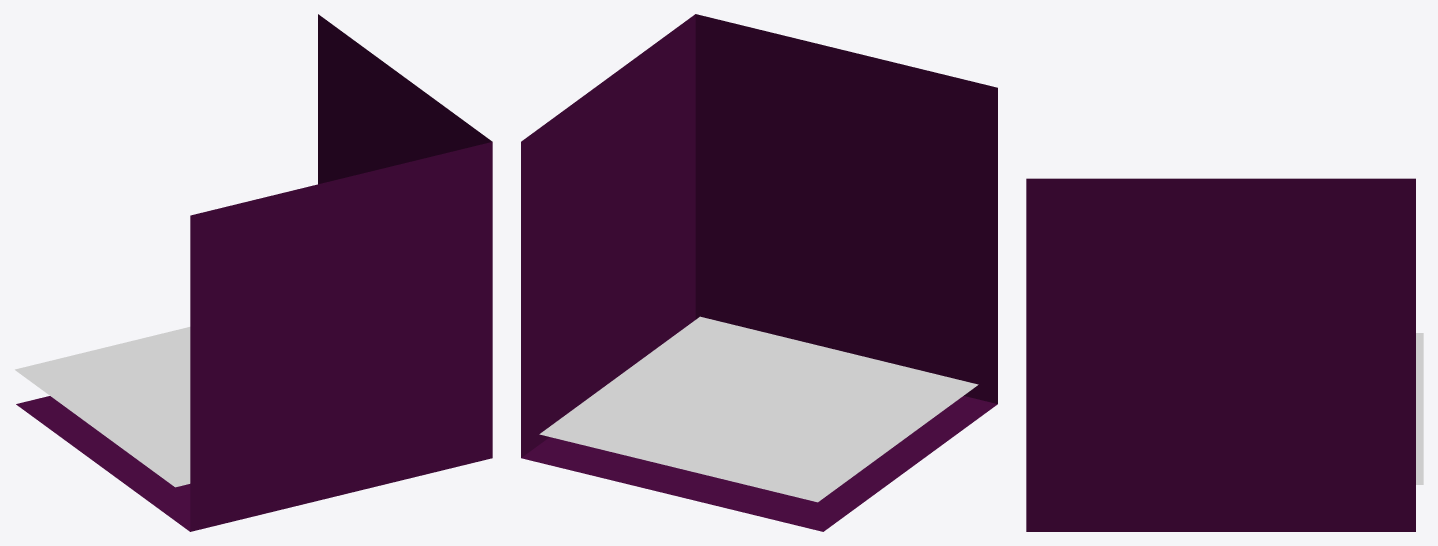
File: fondooo.fbx
3 views of the same model, side by side, from view 1: azimuth 30°, elevation 25°; view 2: azimuth 150°, elevation 25°; view 3: azimuth 270°, elevation 25° (orthographic). The views are drawn at different scales.
Visible parts, largest first — view 1: Cube.055, Plane; view 2: Cube.055, Plane; view 3: Cube.055, Plane.
Boxes of the visible parts, x1,y1,x2,y2 form: Cube.055: (16,14,492,531); Plane: (15,327,190,487); Cube.055: (521,14,997,531); Plane: (539,316,978,502); Cube.055: (1026,178,1415,531); Plane: (1416,333,1423,484).
Bounding box in the file's own units: 8923 × 8923 × 9098.
